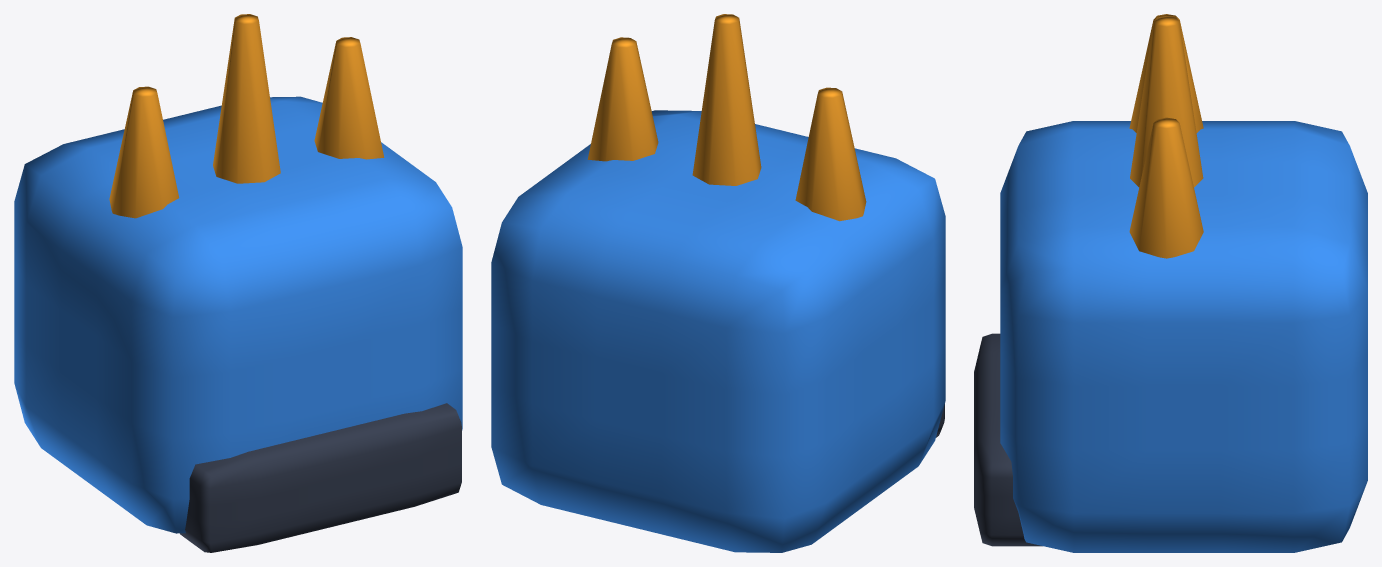
The model's file is head_apex.obj.
The picture shows the model from 3 angles, left to right: view 1: azimuth 30°, elevation 25°; view 2: azimuth 150°, elevation 25°; view 3: azimuth 270°, elevation 25°; orthographic projection. The views are drawn at different scales.
Size of the model in its own units: 0.44 by 0.598 by 0.45.
